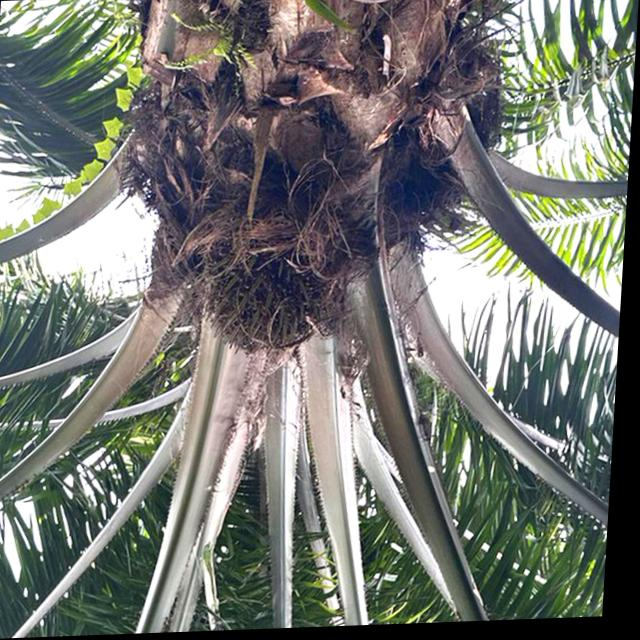unripe: (202, 215, 351, 364), (370, 106, 483, 259)
